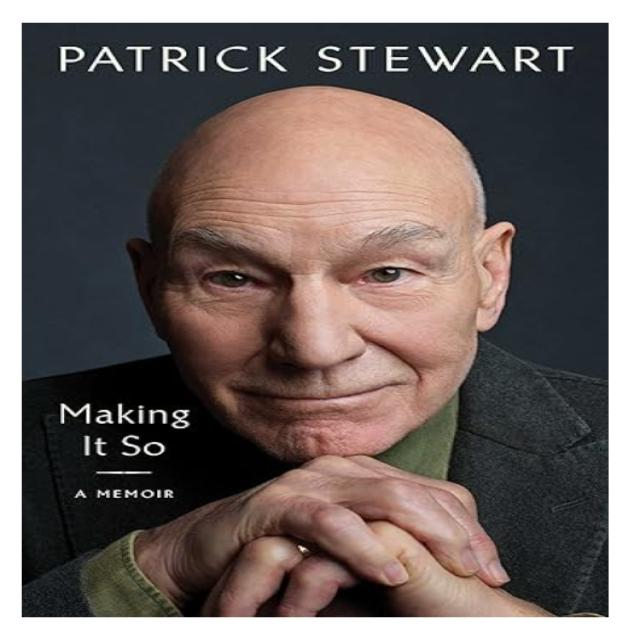titles-or-authors: (44, 34, 586, 85), (48, 394, 202, 466)
